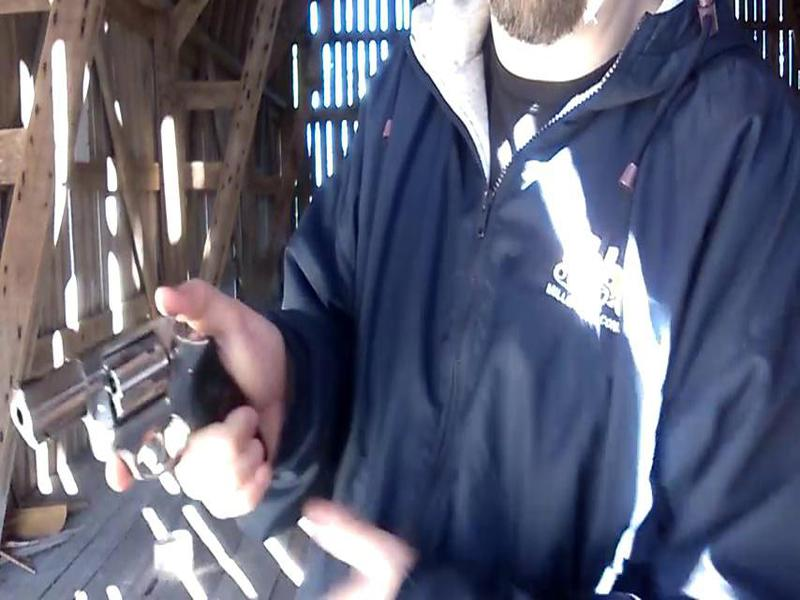Revolver: (10, 335, 242, 494)
